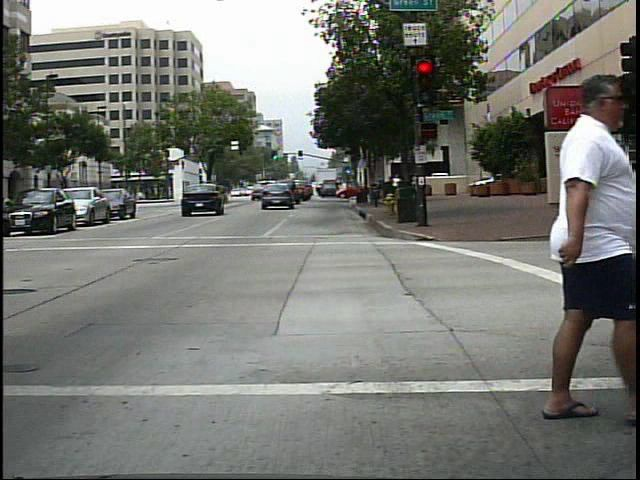person: (512, 67, 630, 425)
